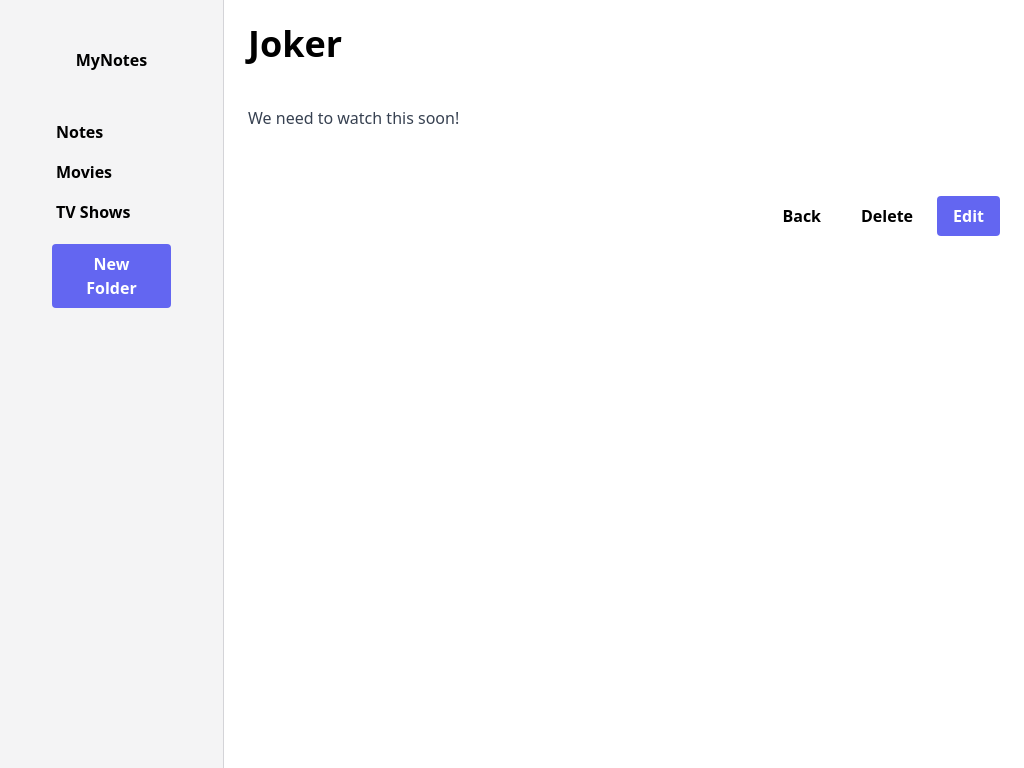
should go back to notes list page, when the back button is clicked
Click the link "Back": (802,216) [782,205,821,227]
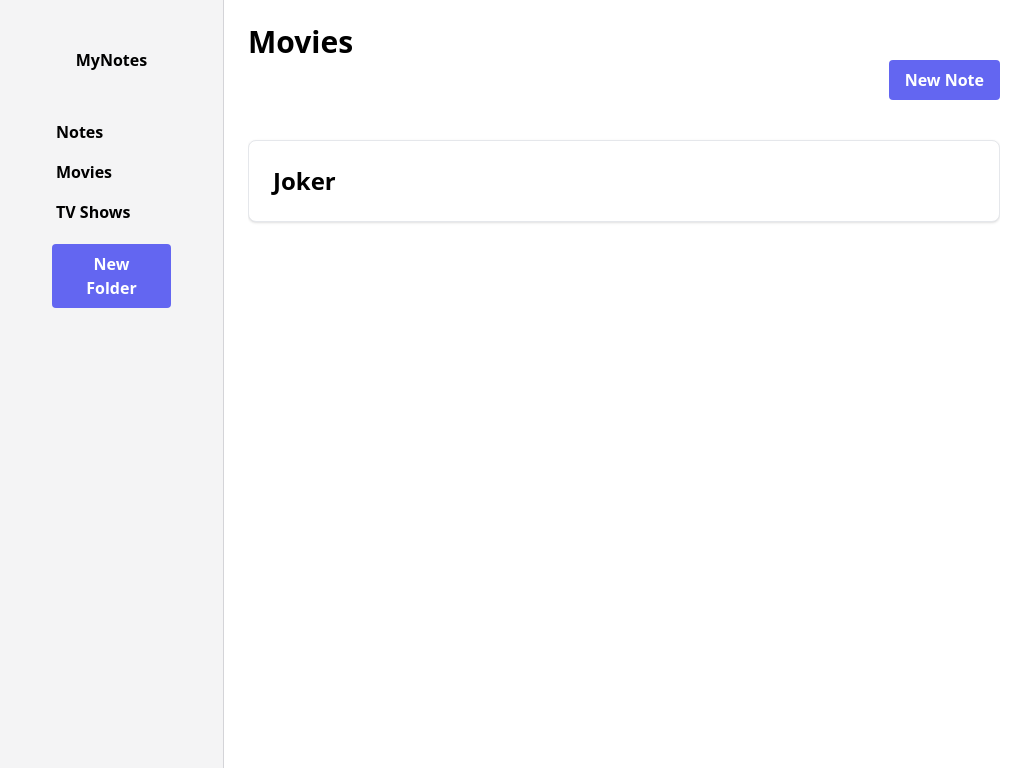
Check: the link "New Note" is shown, box [889,60,1000,100]
